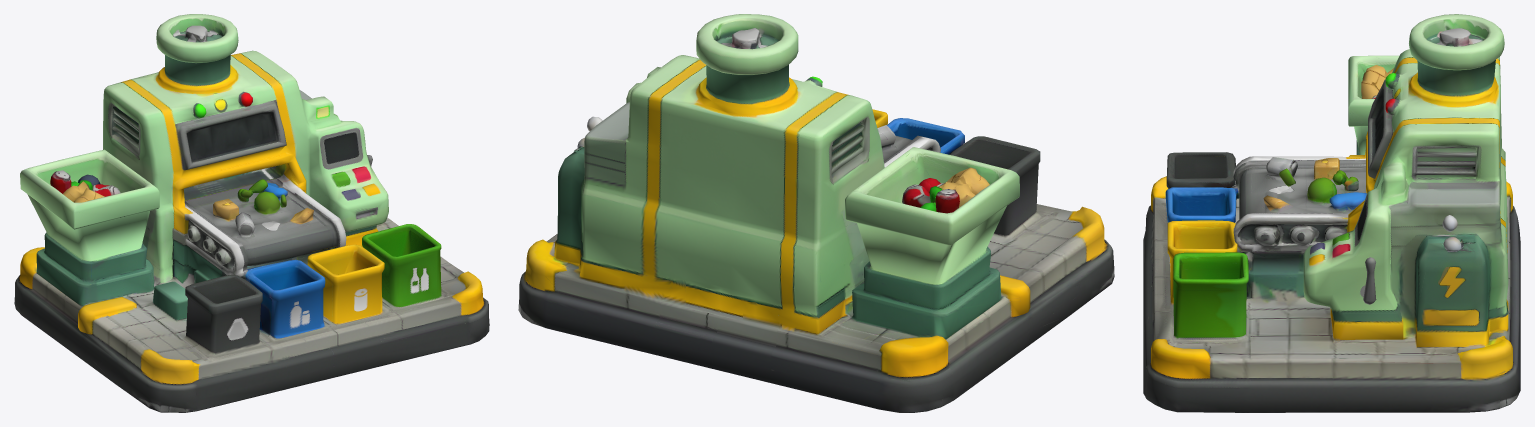
The model's file is model_waste_01.glb.
3 renders of one model, left to right at view 1: azimuth 30°, elevation 25°; view 2: azimuth 150°, elevation 25°; view 3: azimuth 270°, elevation 25°, orthographic. The views are drawn at different scales.
Size of the model in its own units: 1.91 by 1.33 by 1.59.
Materials: 1 (1 with a texture image).
